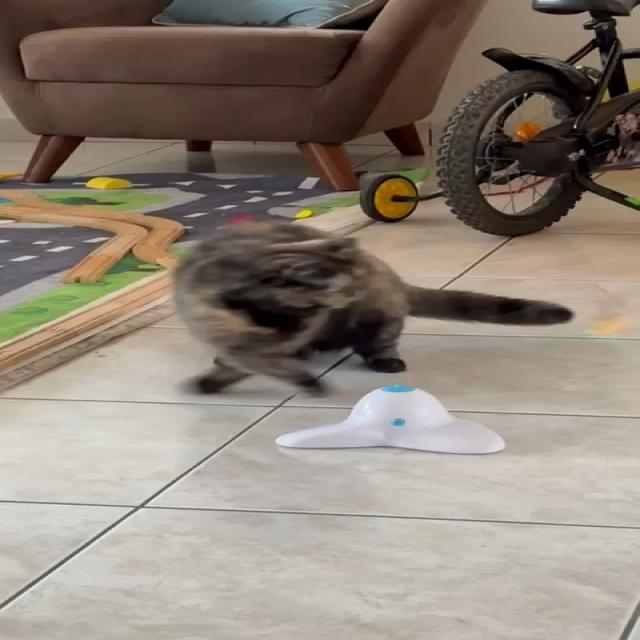authorized: (169, 220, 575, 398)
